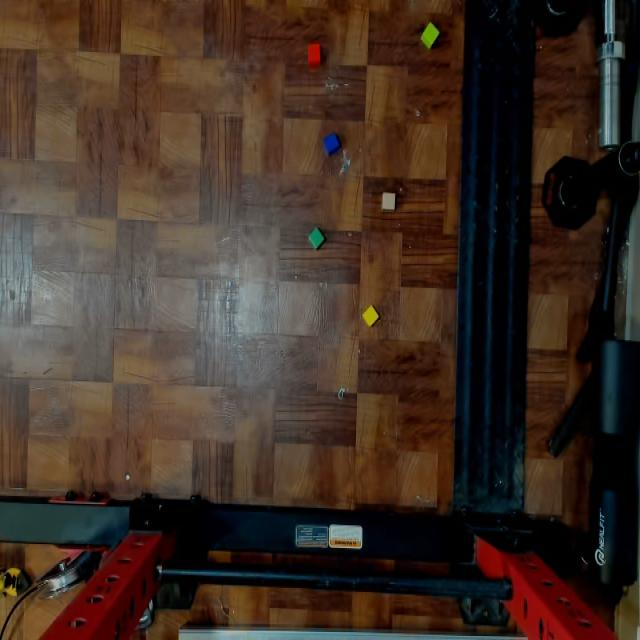block: (421, 21, 439, 48), (323, 133, 341, 155), (362, 305, 379, 327), (308, 227, 325, 248), (308, 44, 321, 65), (381, 193, 395, 211)
